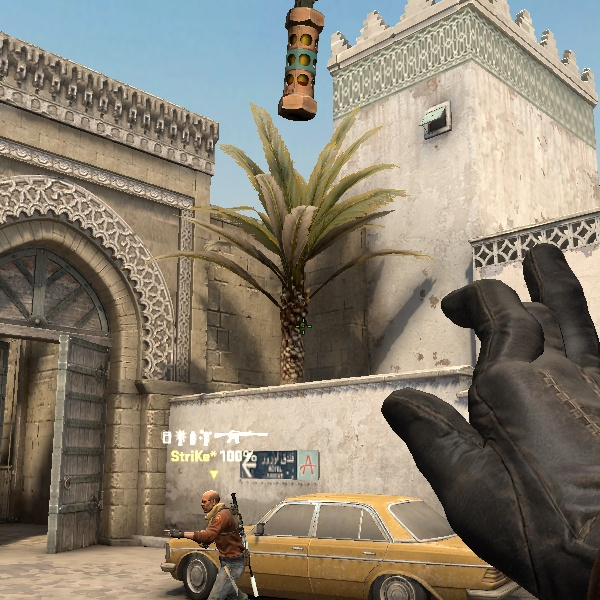t_body: (171, 487, 262, 600)
t_head: (194, 486, 227, 518)
